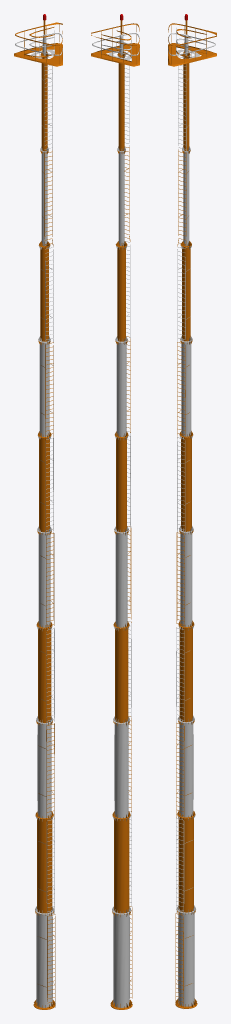
Rendered from Monopolo.fbx.
The picture shows the model from 3 angles, left to right: view 1: azimuth 30°, elevation 25°; view 2: azimuth 150°, elevation 25°; view 3: azimuth 330°, elevation 25°; orthographic projection.
Visible parts, largest first — view 1: Monopolo_1:Mesh; view 2: Monopolo_1:Mesh; view 3: Monopolo_1:Mesh.
Boxes of the visible parts, box(x1,y1,x2,y2) form: Monopolo_1:Mesh: box(14, 14, 62, 1009); Monopolo_1:Mesh: box(91, 14, 139, 1009); Monopolo_1:Mesh: box(168, 14, 216, 1008).
Bounding box in the file's own units: 2.47 × 47.97 × 2.14.
